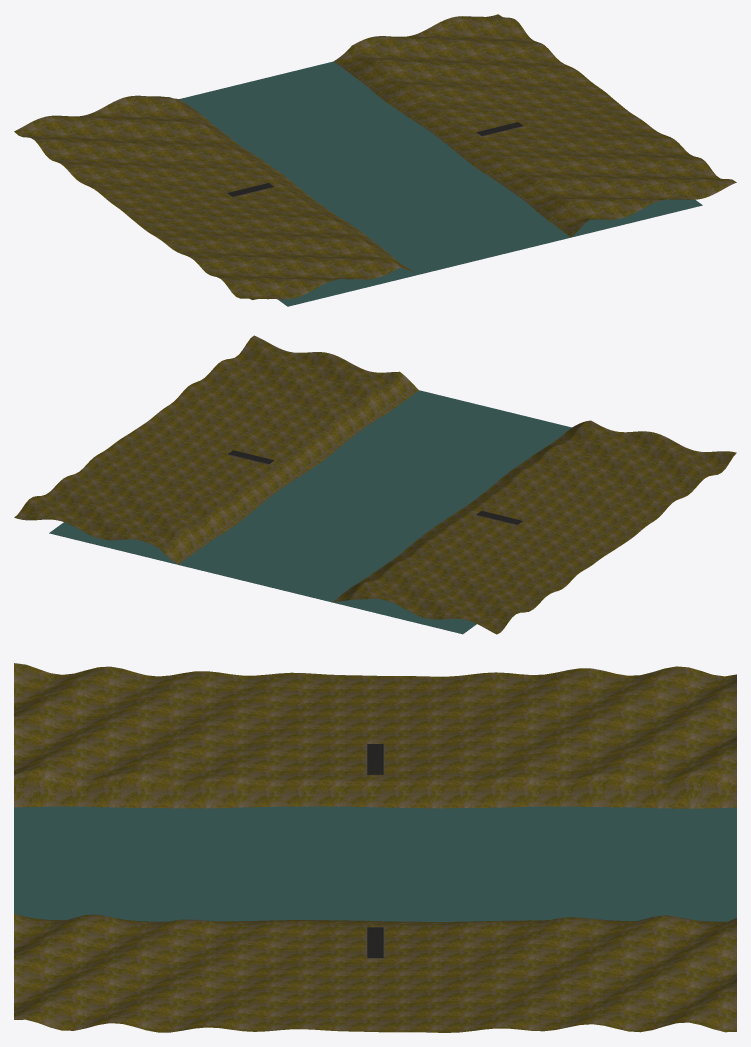
Rendered from cable_stayed_standard.glb.
The picture shows the model from 3 angles, top to bottom: view 1: azimuth 30°, elevation 25°; view 2: azimuth 150°, elevation 25°; view 3: azimuth 270°, elevation 25°; orthographic projection. The views are drawn at different scales.
Visible parts, largest first — view 1: Riverbank_1, RiverSurface, Riverbank_-1; view 2: Riverbank_1, RiverSurface, Riverbank_-1; view 3: Riverbank_-1, RiverSurface, Riverbank_1.
Boxes of the visible parts, box(x1,y1,x2,y2) form: Riverbank_1: box(333, 14, 736, 237); RiverSurface: box(179, 61, 702, 306); Riverbank_-1: box(14, 95, 416, 299); Riverbank_1: box(14, 335, 418, 564); RiverSurface: box(49, 390, 571, 634); Riverbank_-1: box(333, 420, 736, 634); Riverbank_-1: box(14, 663, 736, 808); RiverSurface: box(14, 806, 736, 921); Riverbank_1: box(14, 913, 736, 1032).
Bounding box in the file's own units: 1050 × 31.95 × 896.
4 materials, 3 textured.
